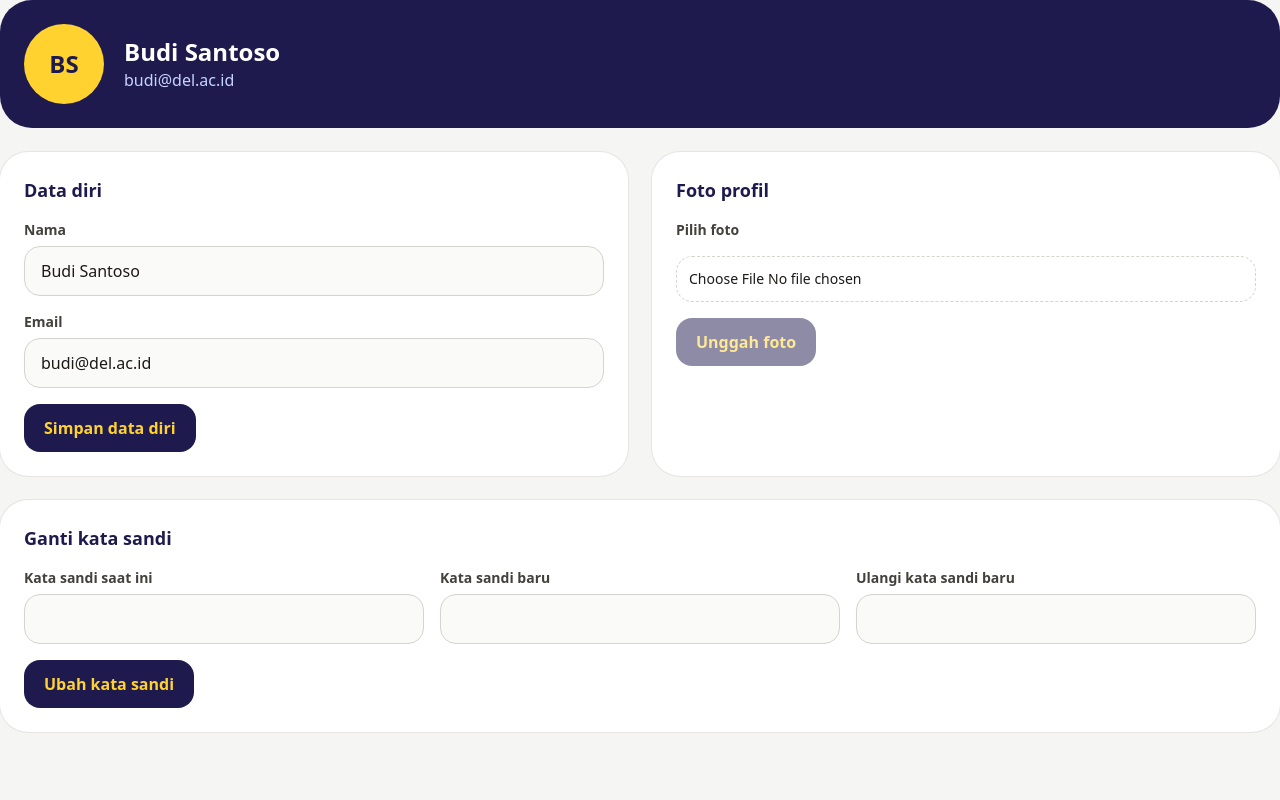
ProfilePage › mengubah data diri dan menyegarkan profil
Replace the text in the field labelled "Nama" with "  Budi Baru " at [314, 271], box [24,246,604,296]
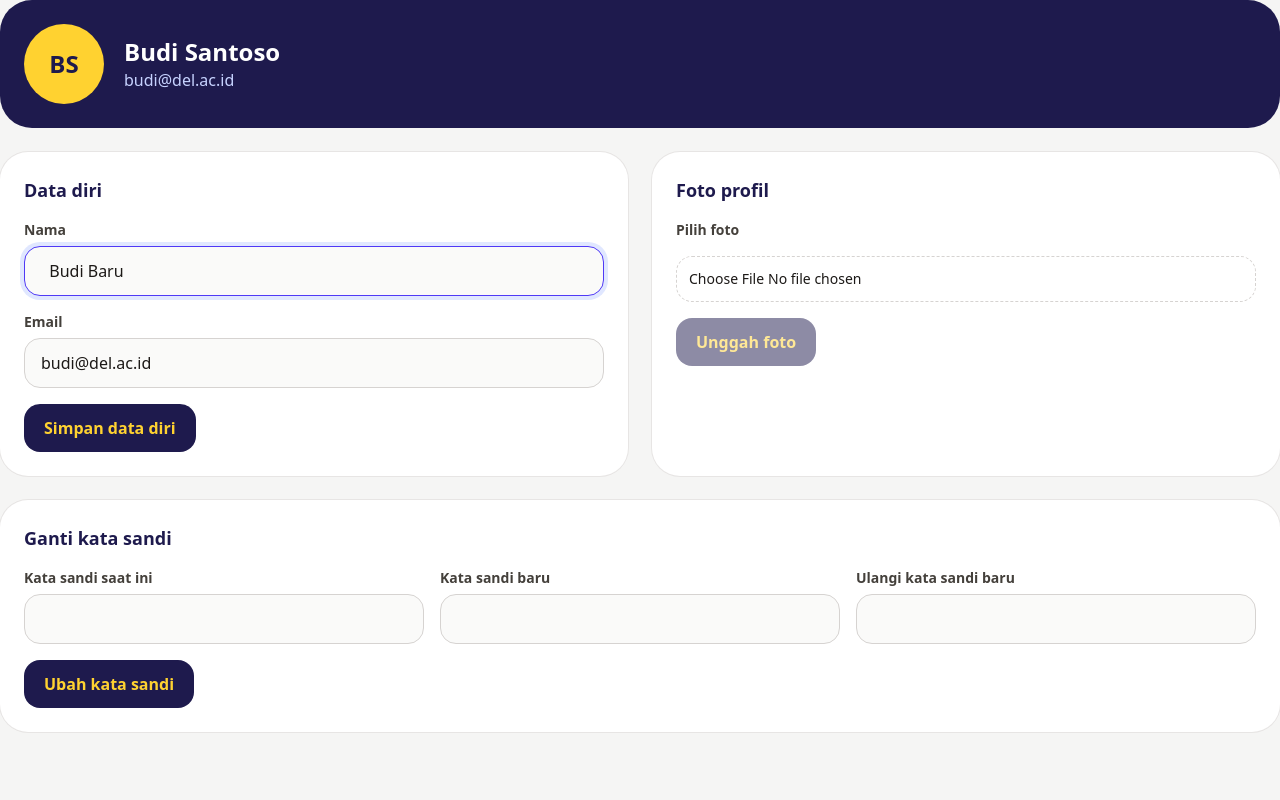
Click the button "Simpan data diri" at [110, 428], box [24,404,196,452]
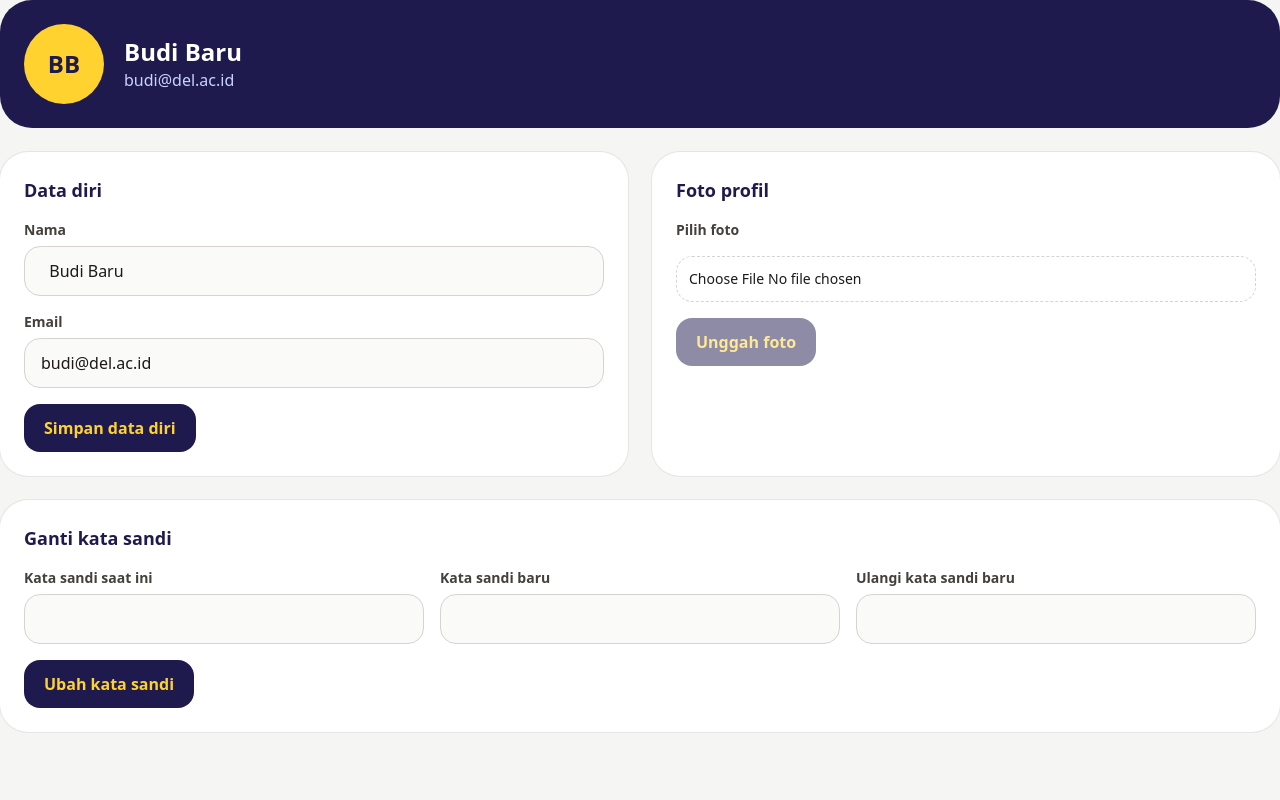
Expected: the heading "Budi Baru" is shown, [124,36,242,68]
